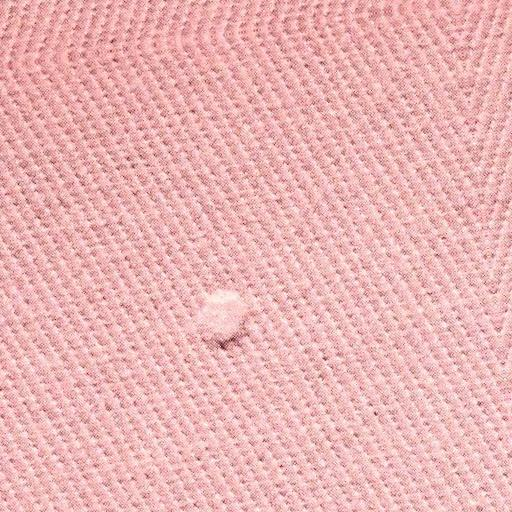knot: (191, 284, 258, 351)
